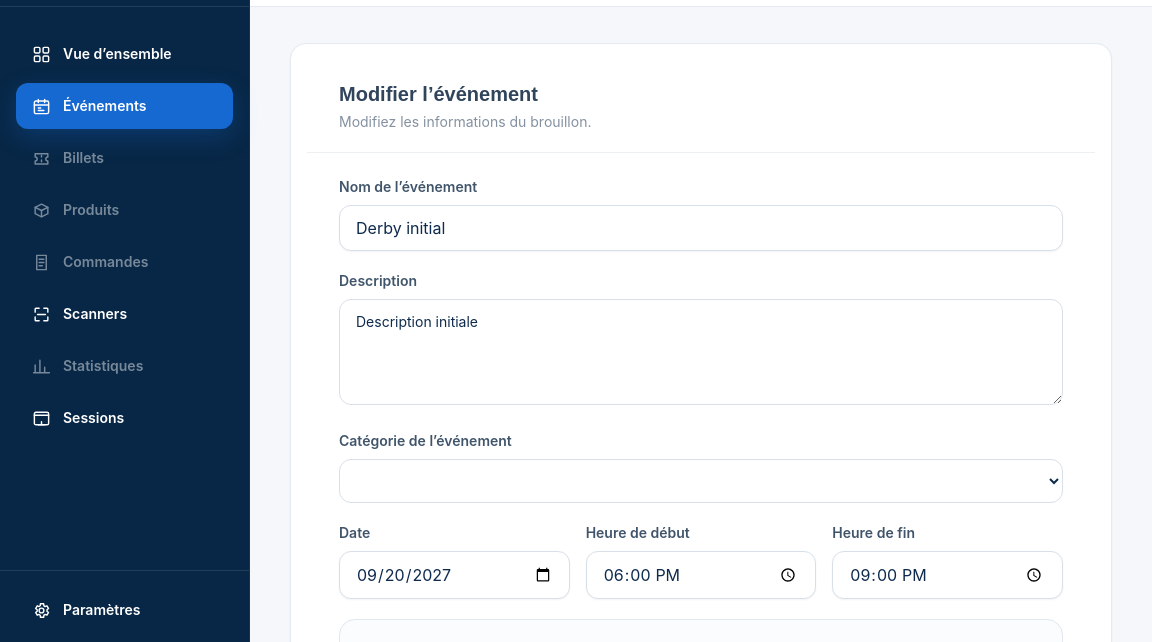
bloque une sauvegarde incomplète sans appeler le PATCH
Expected: the heading "Modifier l’événement" is shown, [339,83,538,105]
Clear the field labelled "Nom de l’événement" at (701, 228), box [339,205,1063,251]
(page scrolled)
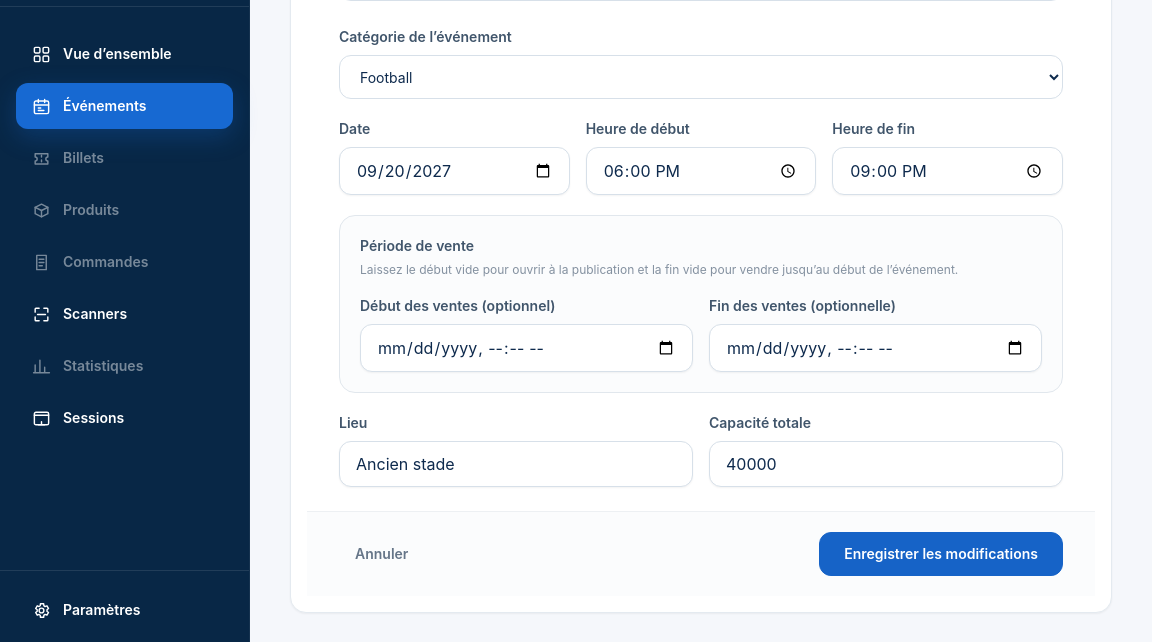
Click the button "Enregistrer les modifications" at (941, 554), box [819,532,1063,576]
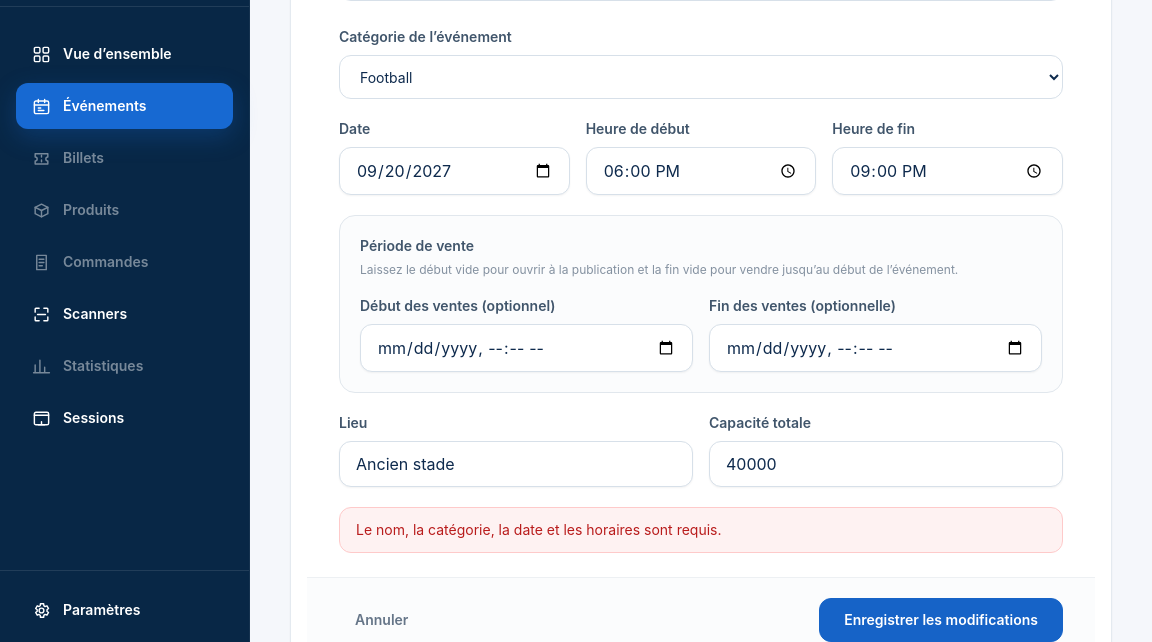
Result: the message reads "Le nom, la catégorie, la date et les horaires sont requis." at [356,521,722,538]
